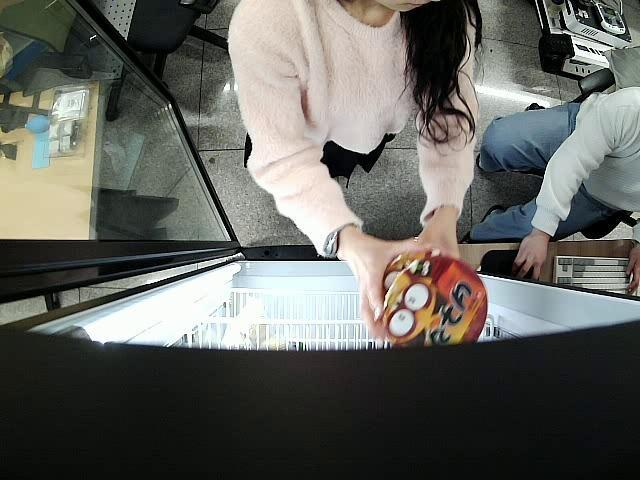05_nuguri_L: (372, 250, 488, 346)
